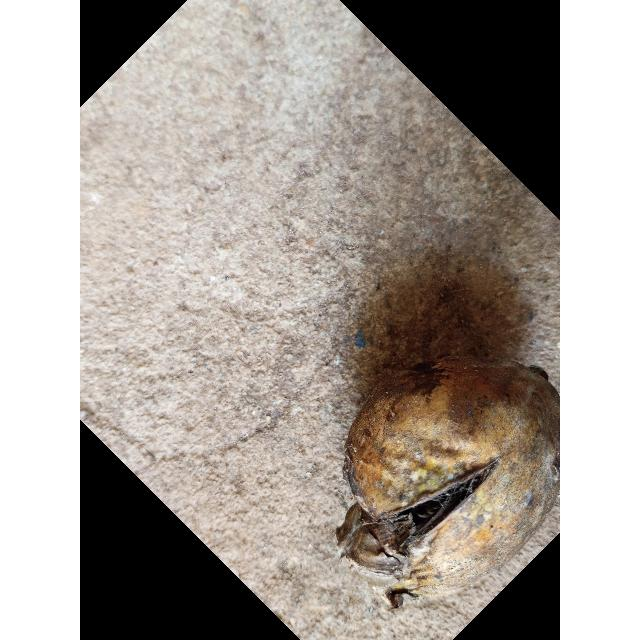damaged: (336, 357, 560, 608)
